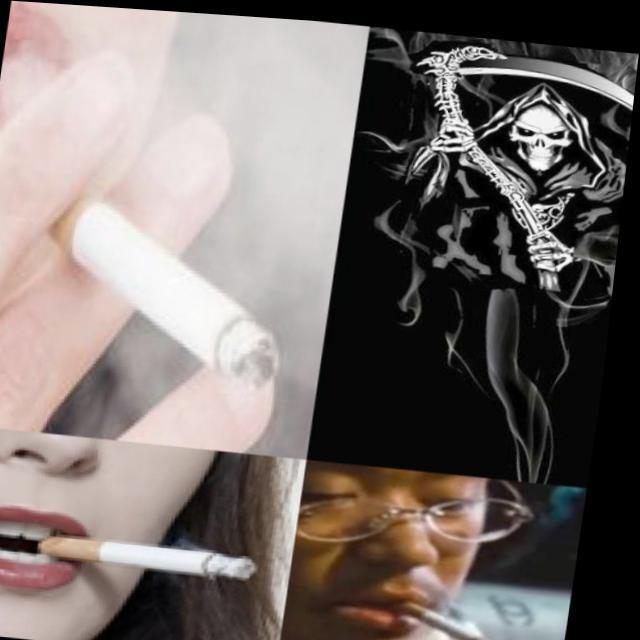Cigarette: (62, 199, 298, 390), (37, 529, 272, 584), (394, 603, 493, 640)
